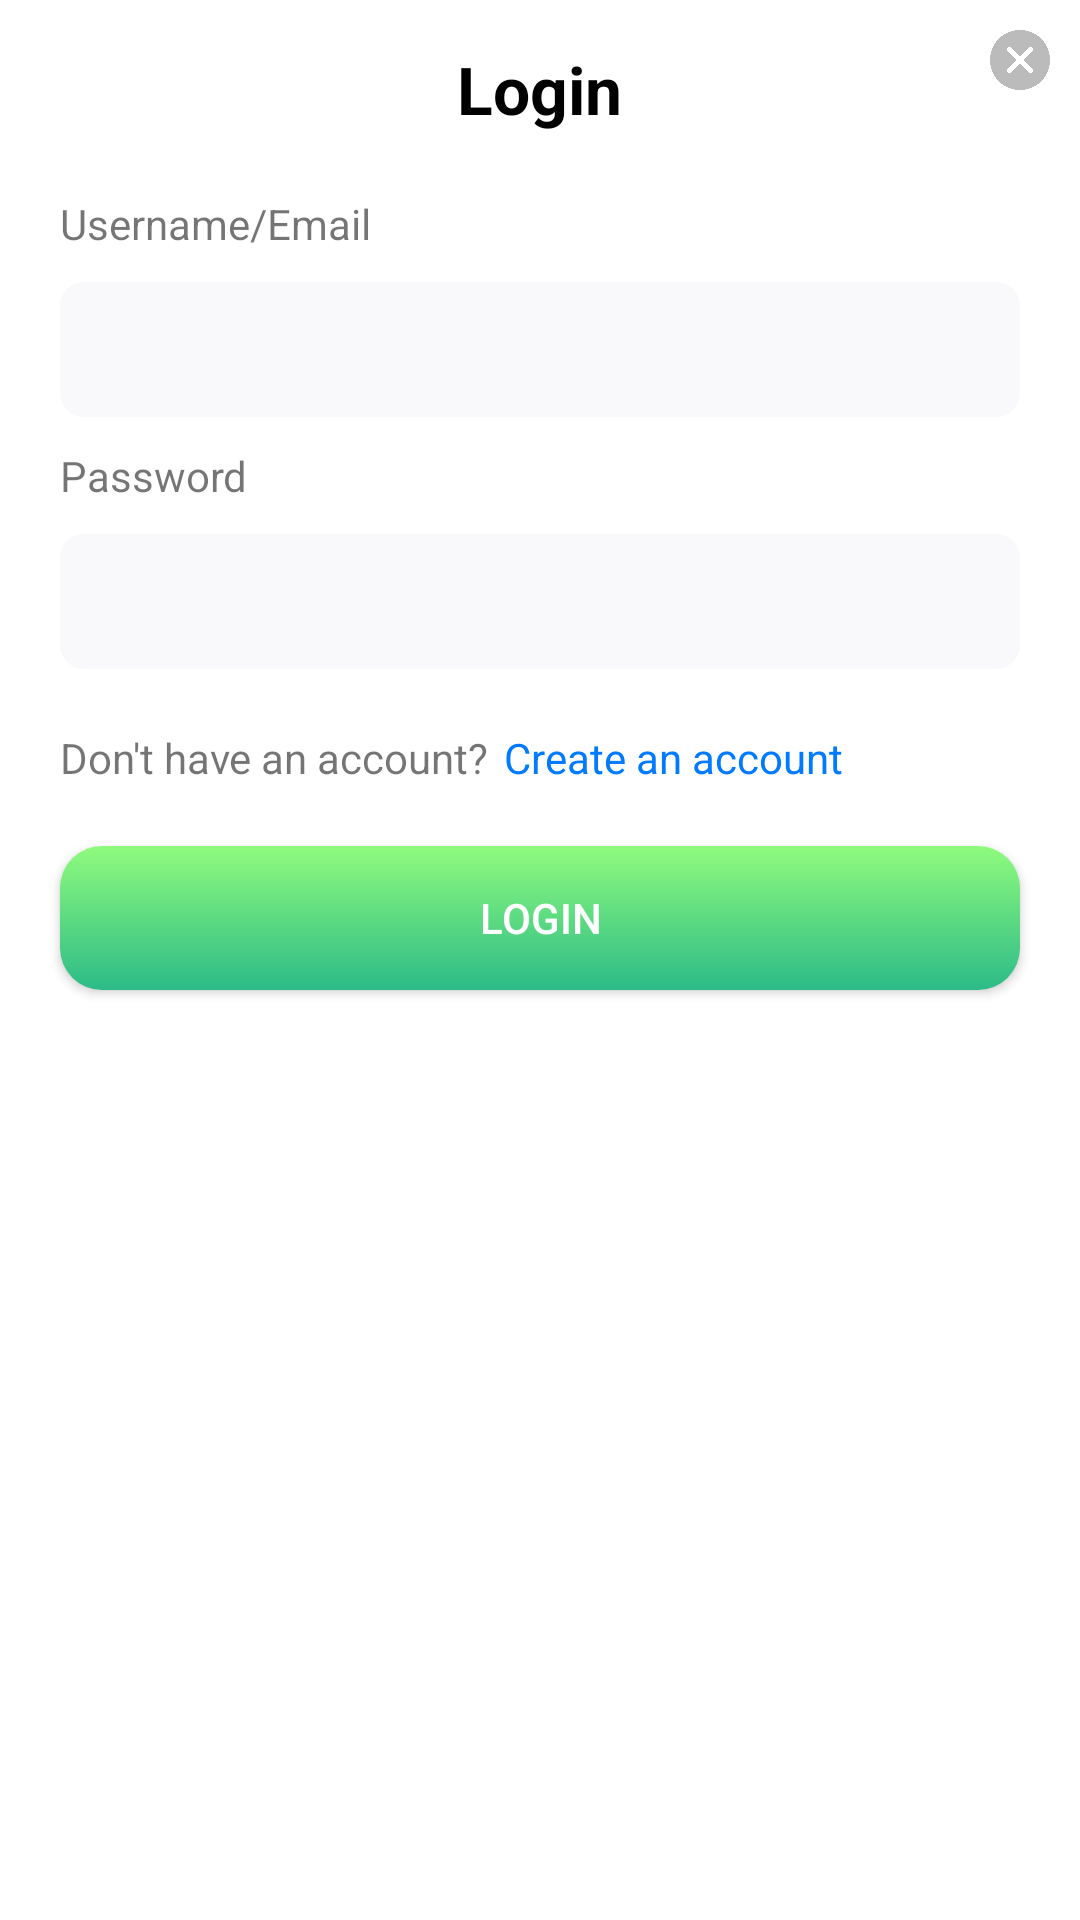

Icon bounding boxes for this 1080×1920 phone screenshot, format (x1, y1, x2, y2):
cancel: (990, 30, 1050, 90)
